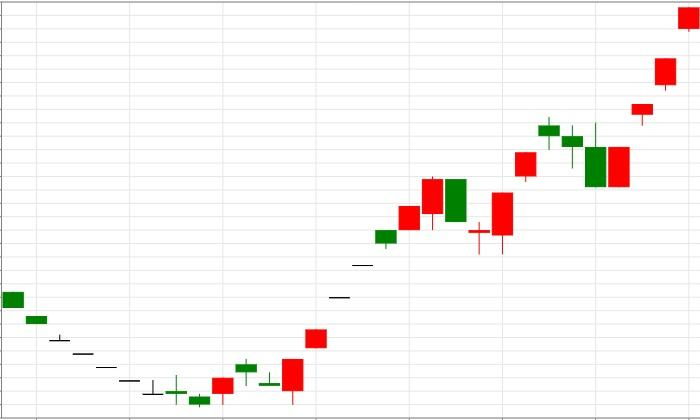three_black_crows_fall: (468, 116, 607, 254)
three_white_soldiers_rise: (538, 57, 677, 188)
